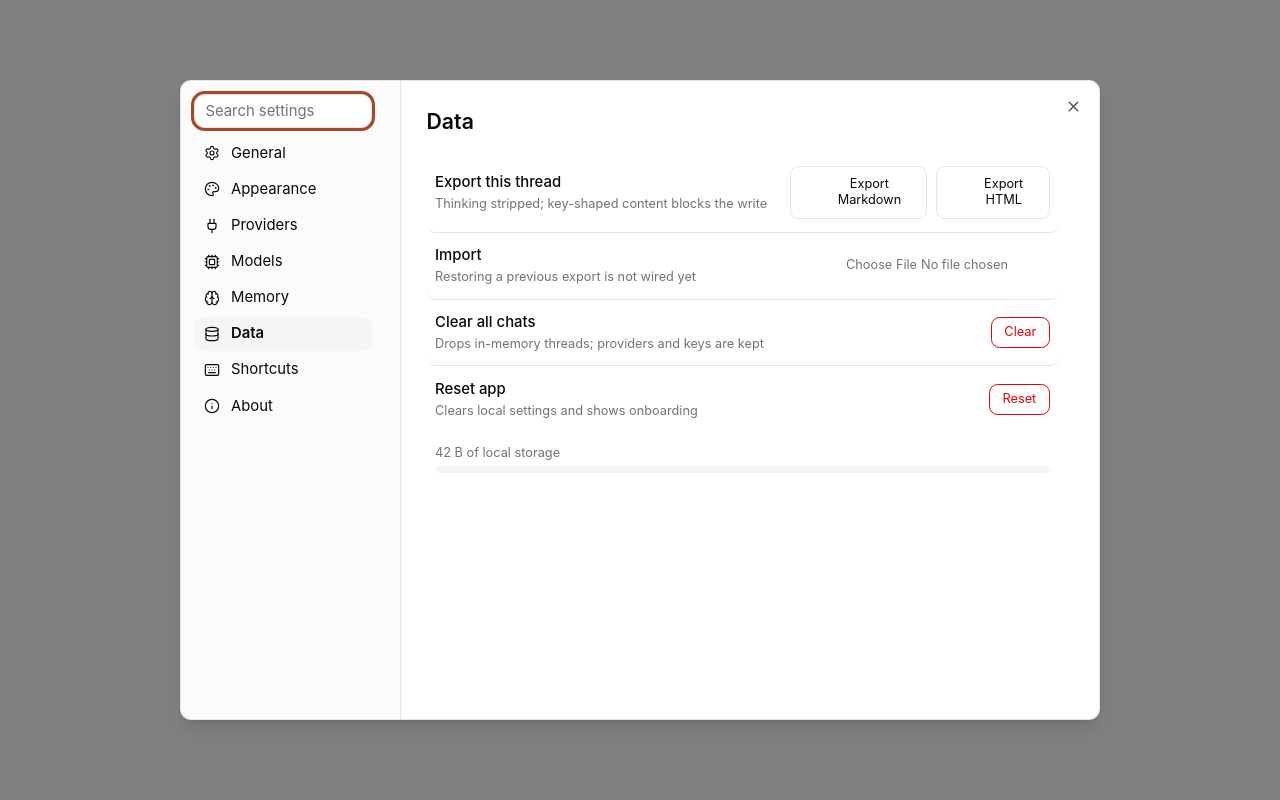
Test: SettingsDialog › reset app confirms first, then clears local storage
What coordinates should you click on to do the following:
click the button "Reset"
I would click on:
 (1019, 399)
Its box is [989, 384, 1050, 415].
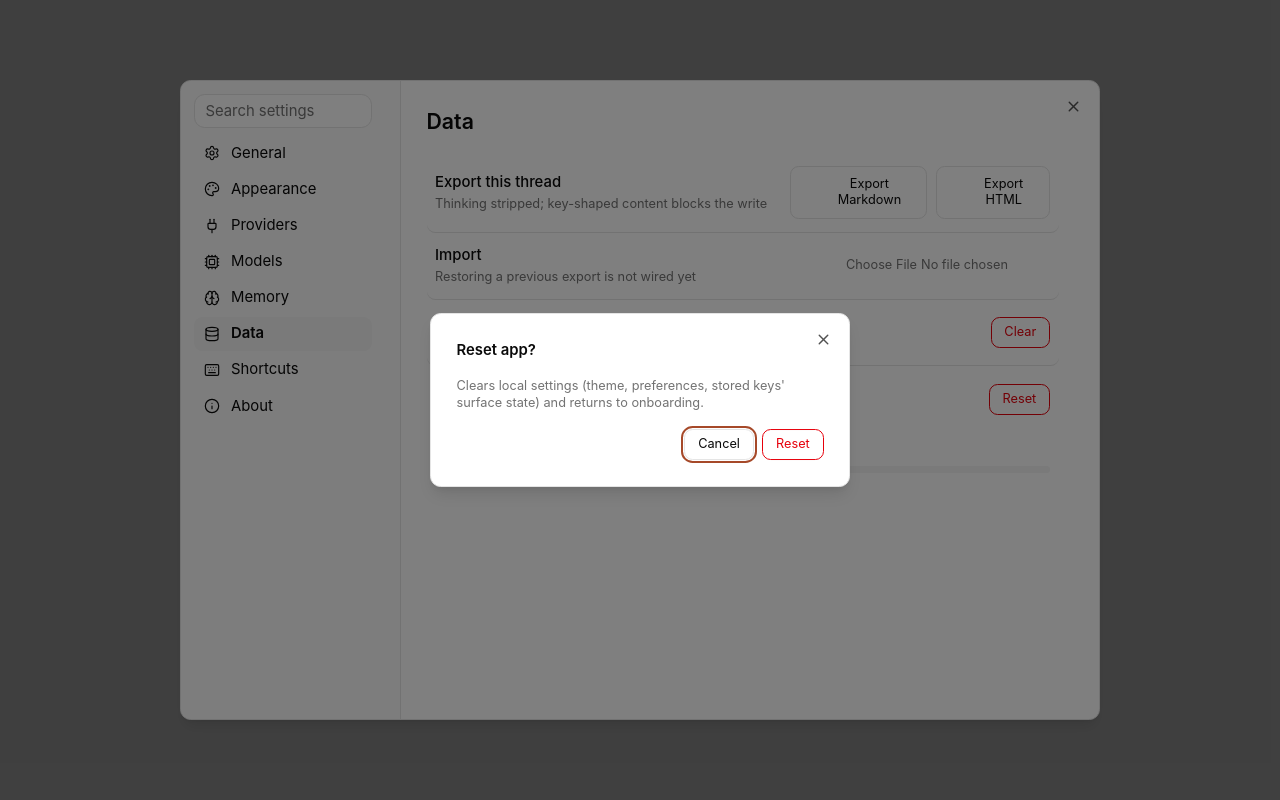
What coordinates should you click on to do the following:
click the button with test id "confirm-reset-app"
I would click on:
 (793, 445)
Its box is [762, 429, 824, 460].
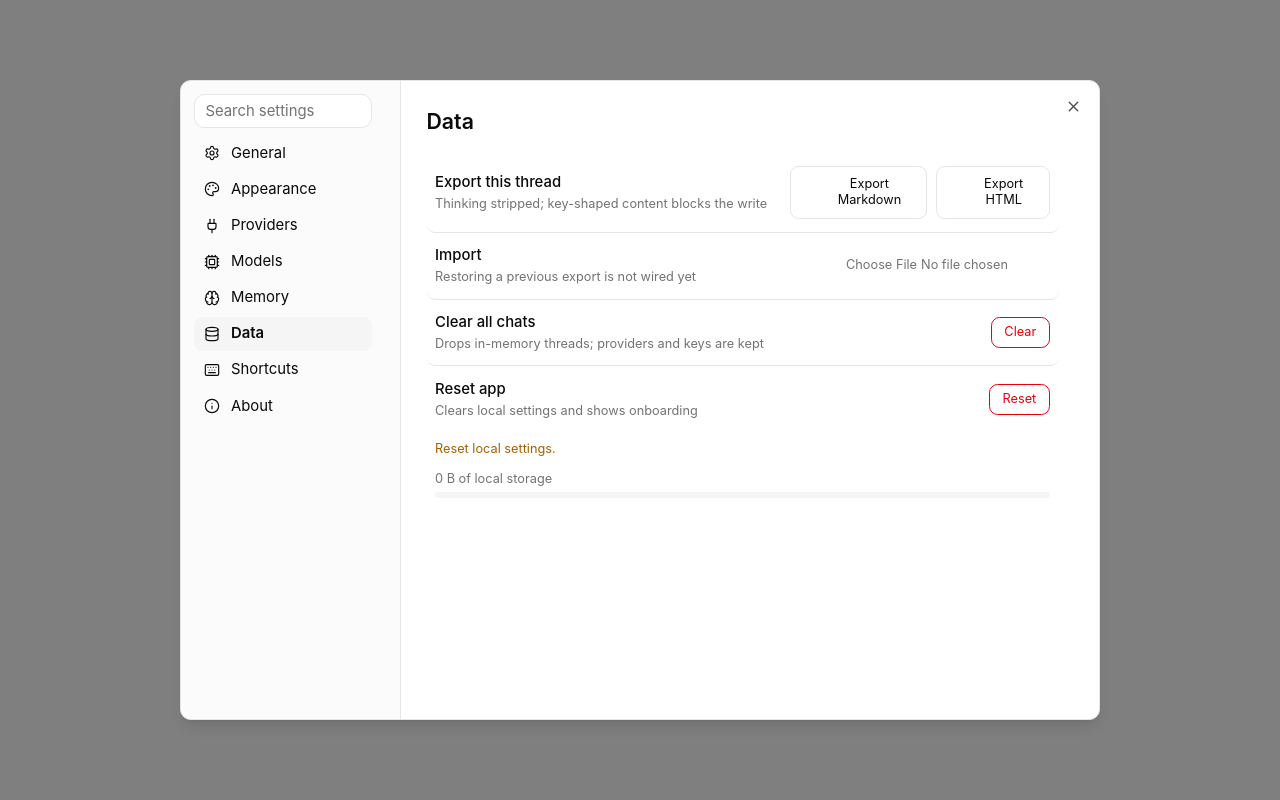
Check: the text "Reset local settings." is shown, box [435, 441, 556, 456]
